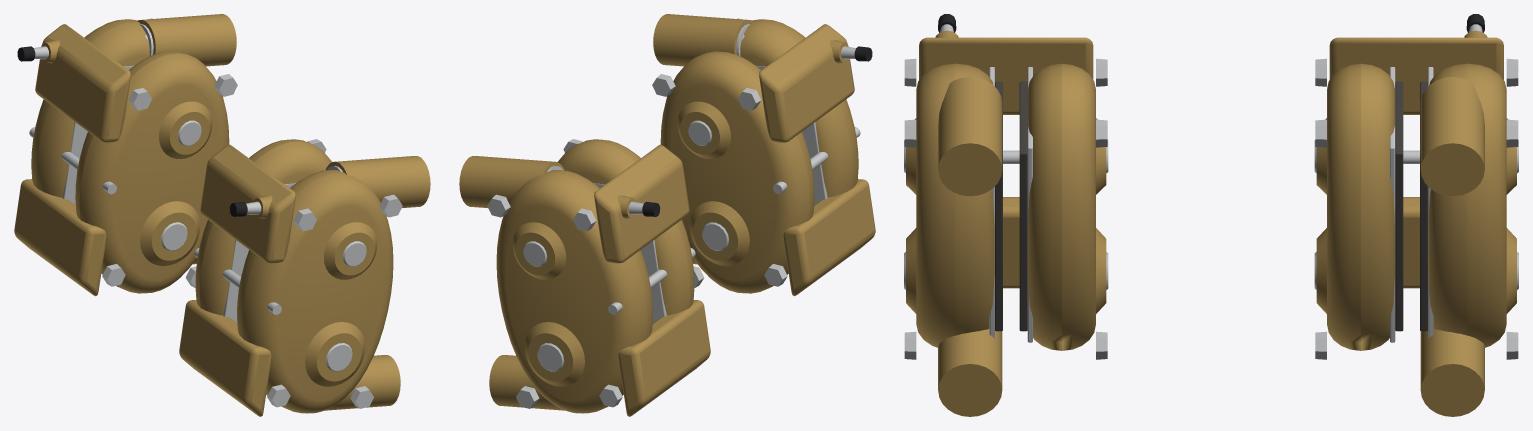
Rendered from twopiece.glb.
3 renders of one model, left to right at view 1: azimuth 30°, elevation 25°; view 2: azimuth 150°, elevation 25°; view 3: azimuth 270°, elevation 25°, orthographic. The views are drawn at different scales.
Parts seen in each view (by area): view 1: caliper_front_twopiece; view 2: caliper_front_twopiece; view 3: caliper_front_twopiece.
Part boxes in pixels (x1,y1,x2,y2): caliper_front_twopiece: (14, 14, 430, 416); caliper_front_twopiece: (459, 14, 875, 416); caliper_front_twopiece: (904, 14, 1518, 416).
Size of the model in its own units: 0.1108 by 0.1348 by 0.2396.
